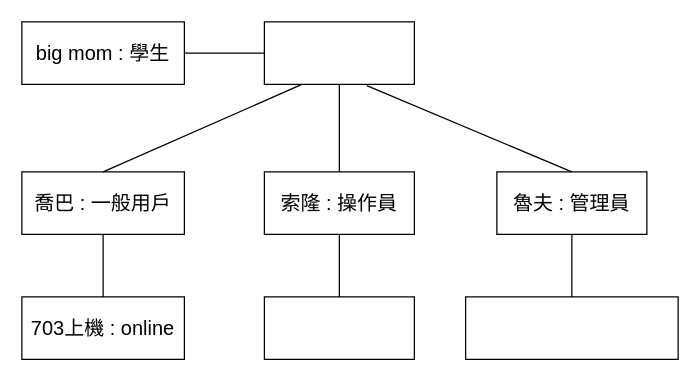
Some shapes in this 700 by 381 pixel diagram are drawn without their labels. Each missing label, with the centre of its shape:
703 : cardno: pixel 338 52
703 : 儲值: pixel 338 327
今日帳單 : CheceDay: pixel 571 327
